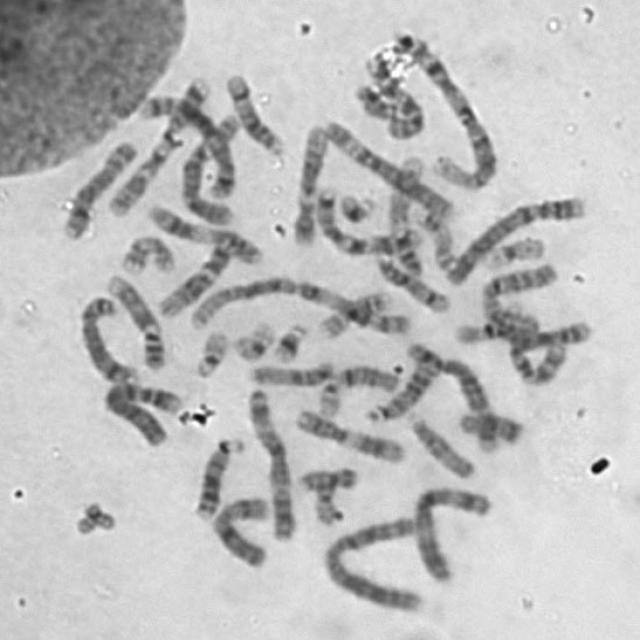A1: (387, 24, 501, 191), (182, 268, 416, 338)
A2: (316, 508, 429, 615), (472, 254, 596, 349)
A3: (405, 477, 495, 585), (240, 379, 298, 541)
B4: (437, 186, 591, 287), (96, 374, 187, 448)
B5: (130, 84, 237, 204), (399, 333, 505, 454)
C10: (497, 297, 571, 388), (361, 50, 428, 142)
C11: (138, 194, 268, 267), (288, 400, 409, 465)
C12: (151, 233, 236, 320), (284, 116, 330, 247)
C6: (314, 110, 458, 222), (173, 105, 246, 226)
C7: (101, 70, 214, 218), (306, 179, 426, 260)
C8: (55, 131, 142, 241), (70, 287, 144, 386)
C9: (100, 266, 168, 371), (382, 147, 428, 278)
D13: (358, 352, 441, 424), (187, 428, 248, 520)
D14: (218, 65, 286, 156), (370, 248, 453, 314)
D15: (400, 404, 479, 482), (242, 353, 338, 387)
E16: (312, 283, 394, 341), (449, 295, 526, 346)
E17: (409, 204, 460, 272), (113, 226, 178, 276)
E18: (452, 402, 528, 446), (332, 356, 402, 394)
F19: (475, 228, 550, 271), (224, 313, 278, 363)
F20: (290, 459, 362, 494), (306, 475, 343, 526)
G21: (263, 315, 311, 364), (331, 184, 378, 226)
G22: (187, 321, 232, 379), (312, 371, 346, 418)
X: (205, 487, 274, 570)
Y: (346, 76, 400, 120)
